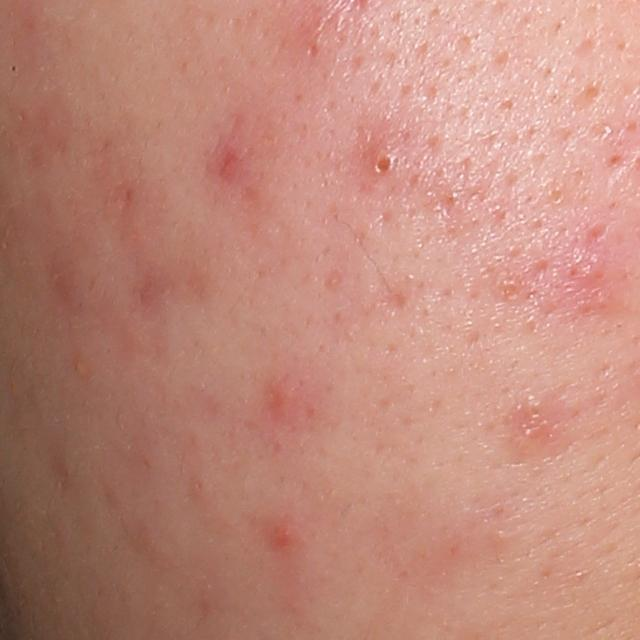atrophic_scar: (380, 280, 413, 316)
papule: (362, 137, 412, 186), (259, 375, 304, 424), (268, 518, 299, 557)
